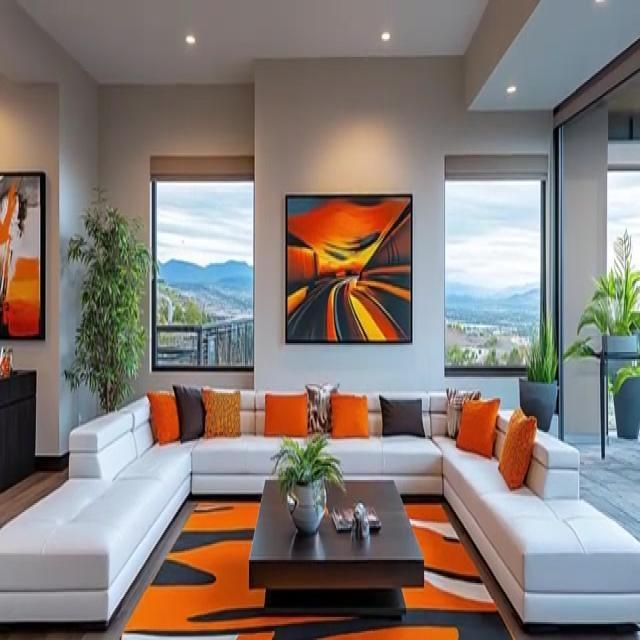obstacle: (0, 384, 639, 636), (248, 476, 424, 618), (0, 366, 36, 502)
